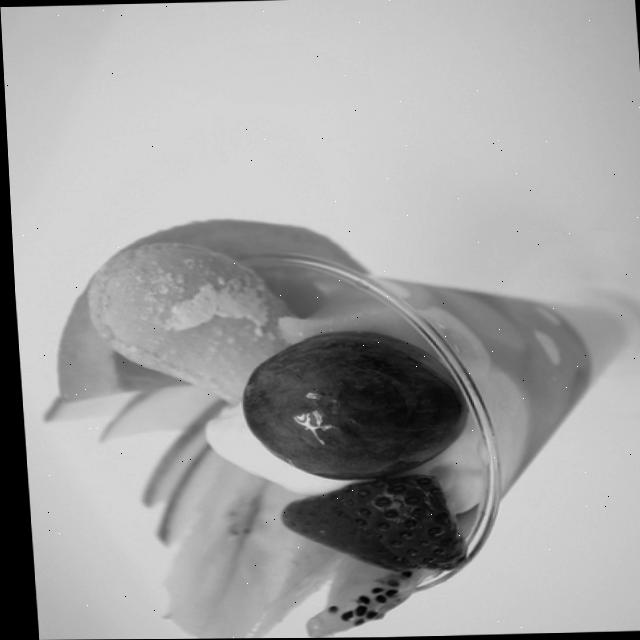蛋糕甜品: (9, 179, 640, 640)
